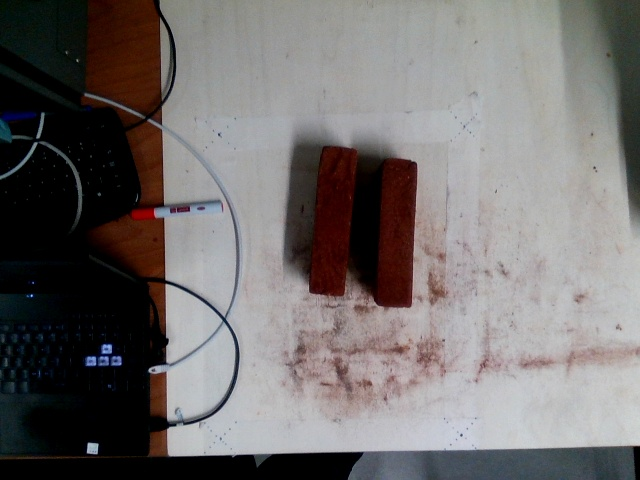brick-side: (310, 143, 355, 294), (377, 162, 416, 305)
